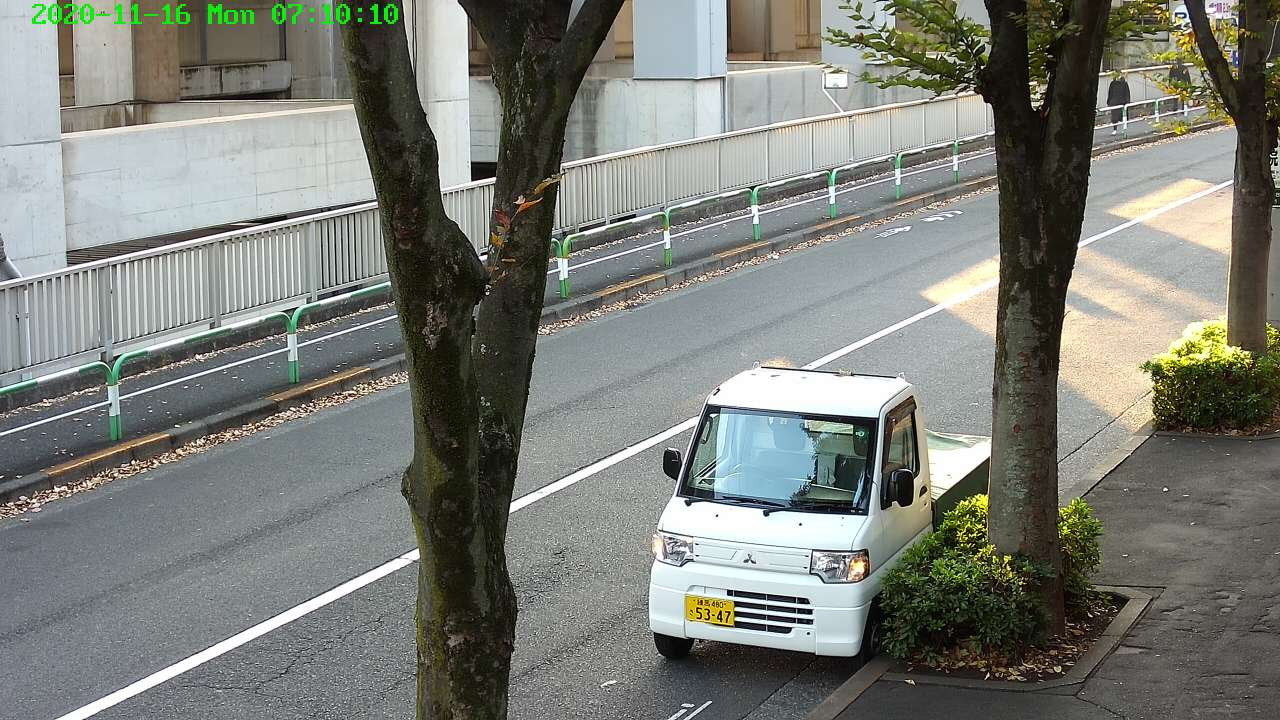number_plate: (682, 593, 736, 624)
